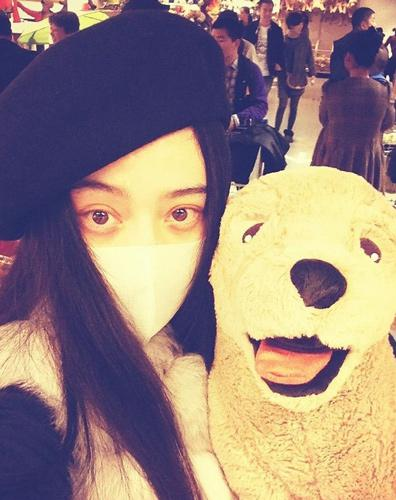NONE: (262, 7, 274, 21)
OK: (51, 165, 221, 346)
